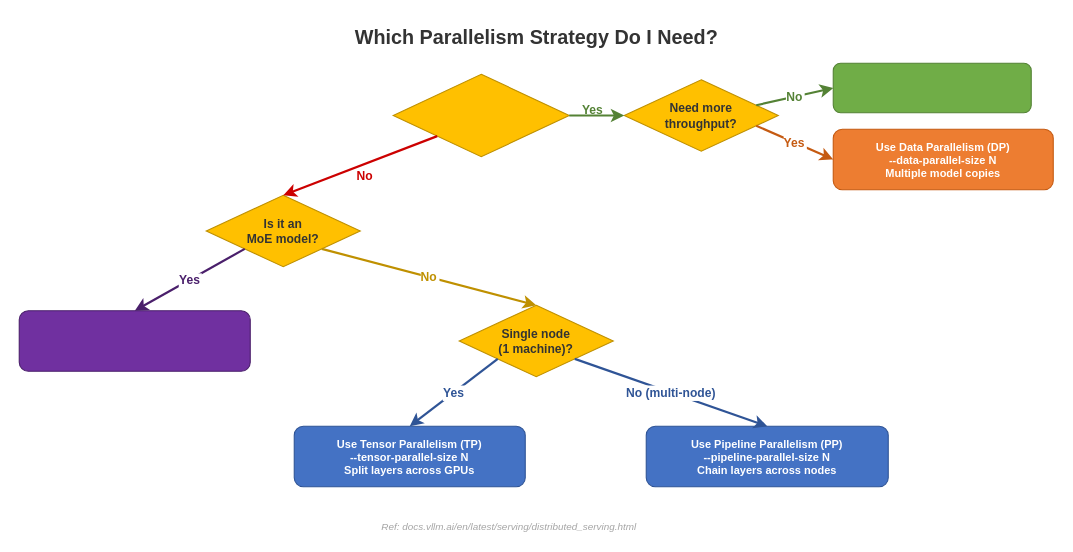
The diagram is 1073 pixels wide and 552 high, and some of its shapes have lost their labels. Each missing label, with the box of its shape:
Does the model fit on 1 GPU?: (392, 73, 569, 157)
No parallelism needed! Just run on 1 GPU: (832, 62, 1031, 113)
Use Expert Parallelism (EP) --tensor-parallel-size N Experts split across GPUs: (18, 310, 250, 371)
